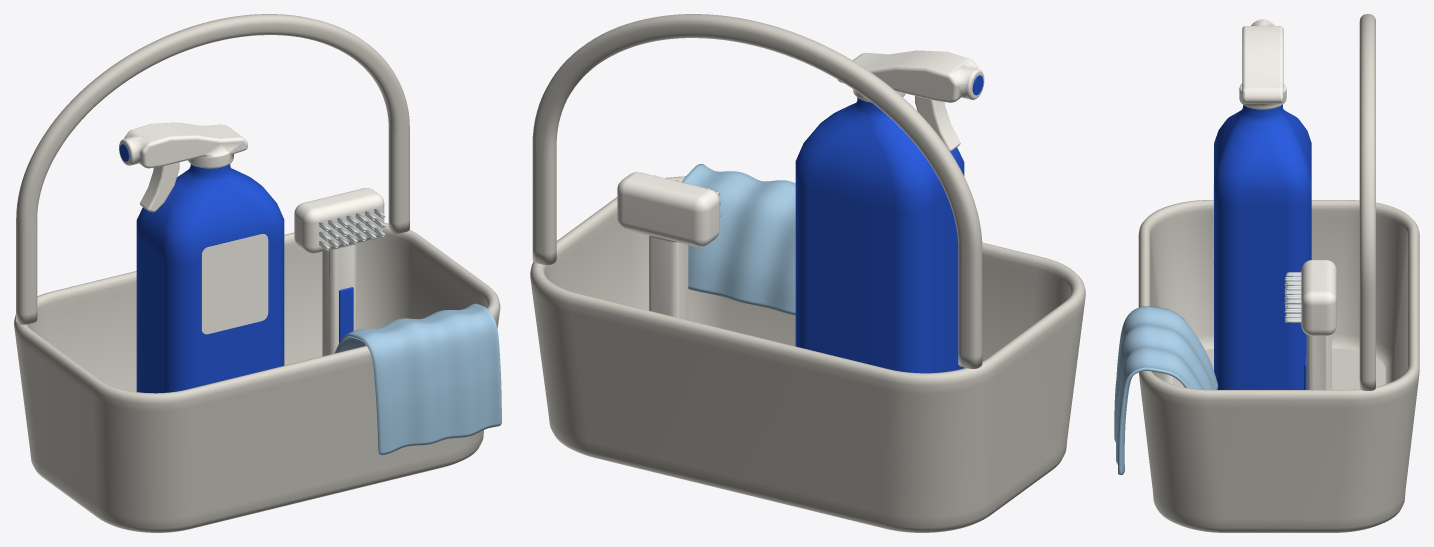
File: cleaning-caddy.gltf
The picture shows the model from 3 angles, left to right: view 1: azimuth 30°, elevation 25°; view 2: azimuth 150°, elevation 25°; view 3: azimuth 270°, elevation 25°; orthographic projection. The views are drawn at different scales.
Parts seen in each view (by area): view 1: Caddy, Spray_Bottle, Cloth, Caddy_Handle, Brush, Spray_Label, Spray_Trigger, Brush_Bristles, Spray_Trigger_Lever, Brush_Accent; view 2: Caddy, Spray_Bottle, Caddy_Handle, Cloth, Brush, Spray_Trigger, Spray_Trigger_Lever; view 3: Caddy, Spray_Bottle, Cloth, Caddy_Handle, Brush, Spray_Trigger, Brush_Bristles.
Boxes of the visible parts, box(x1,y1,x2,y2) form: Caddy: box(14, 222, 500, 532); Spray_Bottle: box(136, 164, 284, 393); Cloth: box(335, 303, 501, 455); Caddy_Handle: box(16, 14, 409, 324); Brush: box(294, 188, 384, 356); Spray_Label: box(201, 234, 268, 334); Spray_Trigger: box(119, 122, 247, 168); Brush_Bristles: box(319, 209, 385, 251); Spray_Trigger_Lever: box(140, 162, 179, 212); Brush_Accent: box(339, 287, 353, 342); Caddy: box(530, 176, 1085, 532); Spray_Bottle: box(795, 97, 964, 373); Caddy_Handle: box(532, 14, 982, 368); Cloth: box(682, 164, 795, 315); Brush: box(617, 172, 719, 319); Spray_Trigger: box(837, 50, 984, 102); Spray_Trigger_Lever: box(915, 96, 960, 151); Caddy: box(1138, 200, 1419, 532); Spray_Bottle: box(1214, 104, 1311, 389); Cloth: box(1114, 306, 1218, 474); Caddy_Handle: box(1359, 14, 1375, 390); Brush: box(1301, 260, 1336, 389); Spray_Trigger: box(1239, 19, 1286, 109); Brush_Bristles: box(1284, 272, 1301, 322).
Size of the model in its own units: 0.312 by 0.301 by 0.2065.
